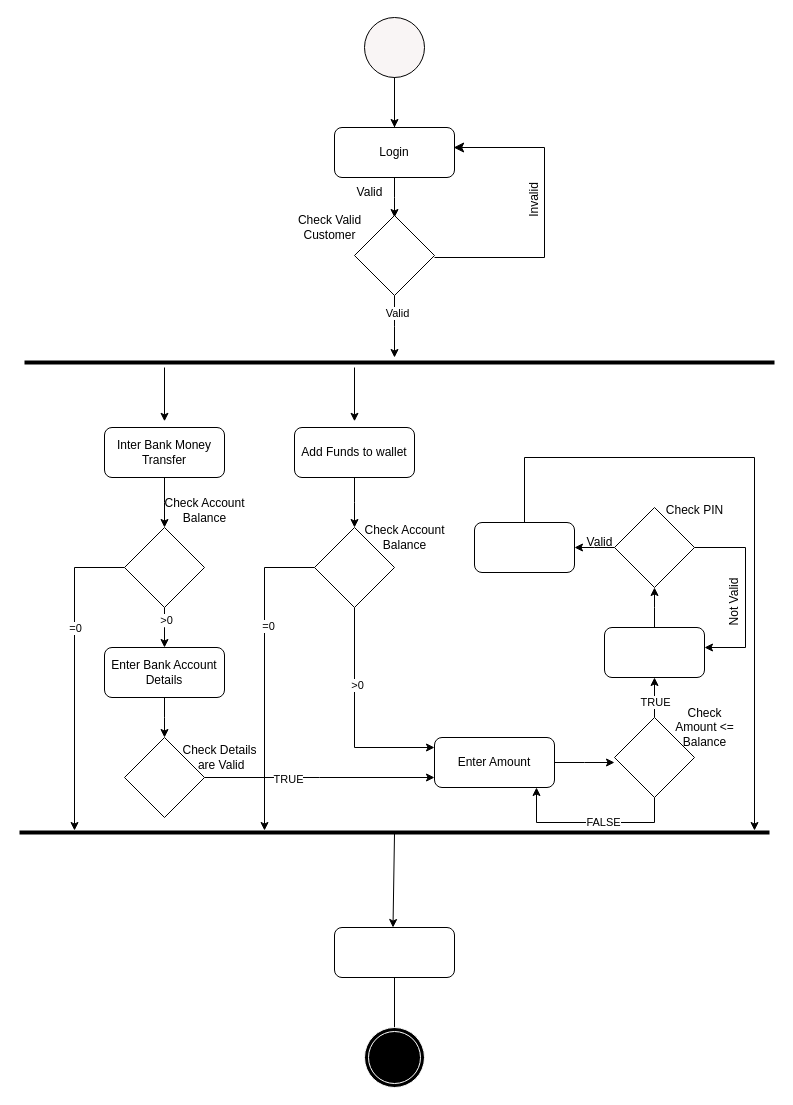
The diagram is 793 pixels wide and 1105 high, and some of its shapes have lost their labels. Each missing label, with the box of its shape:
Enter PIN: (604, 626, 704, 678)
Funds Transferred: (474, 522, 574, 572)
Log Out: (334, 926, 454, 978)
